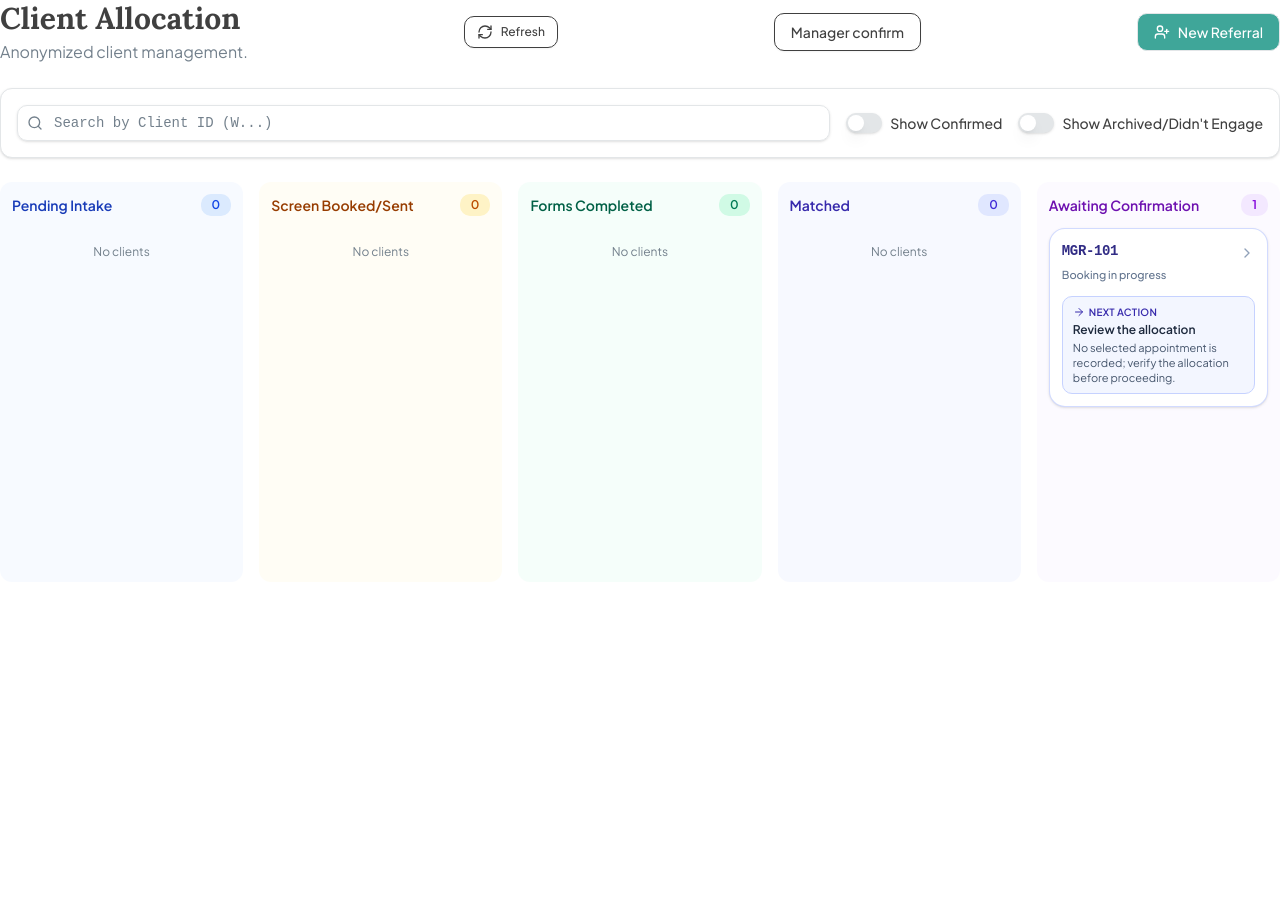
Test: Clients page compact board integration › shows manager confirmation only after the server grants this admin permission
Click the button "Manager confirm".
click(847, 32)  # box [774, 13, 921, 51]
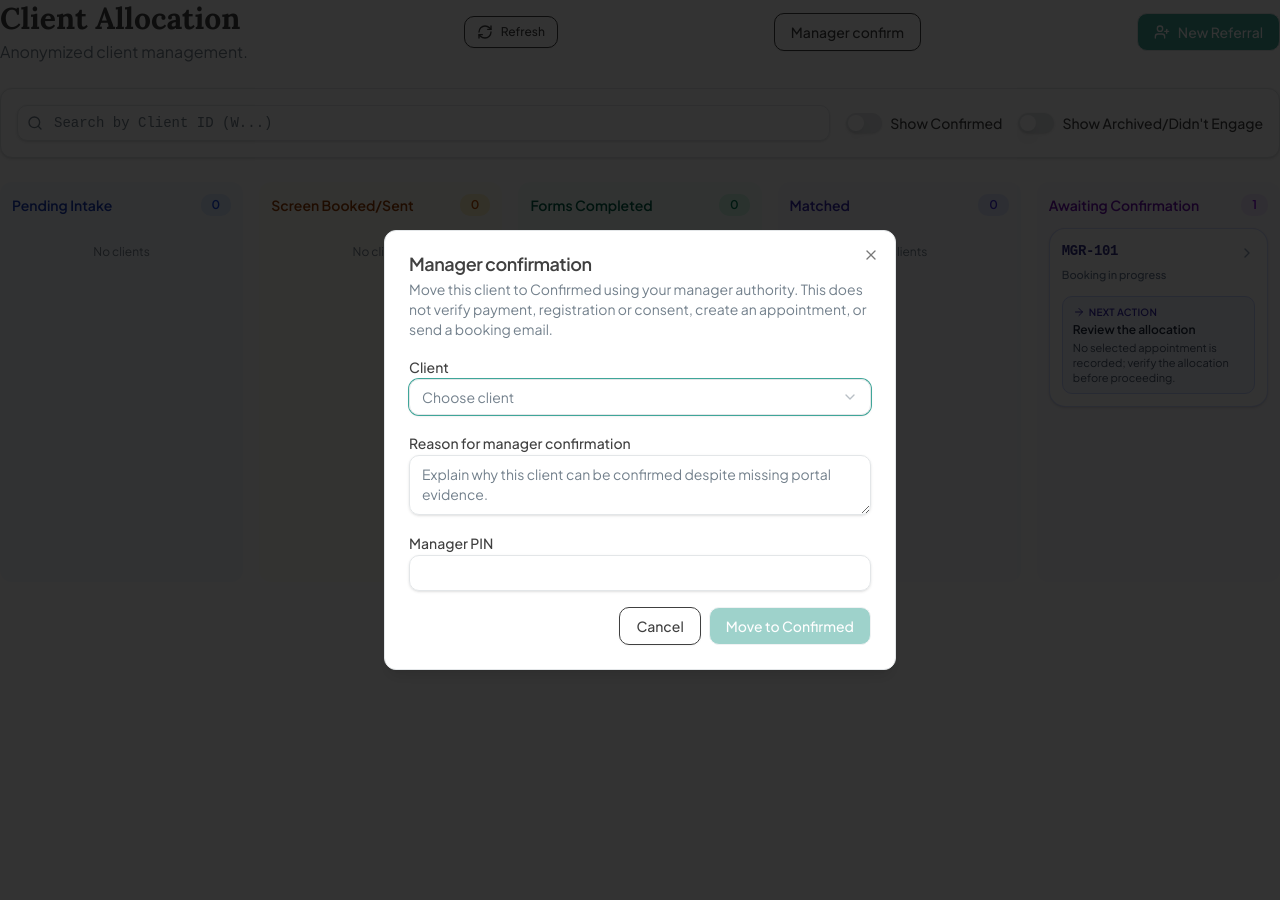
Now the heading "Manager confirmation" is shown, box [409, 252, 592, 275]
Now the button "Move to Confirmed" is disabled, box [709, 607, 871, 645]
